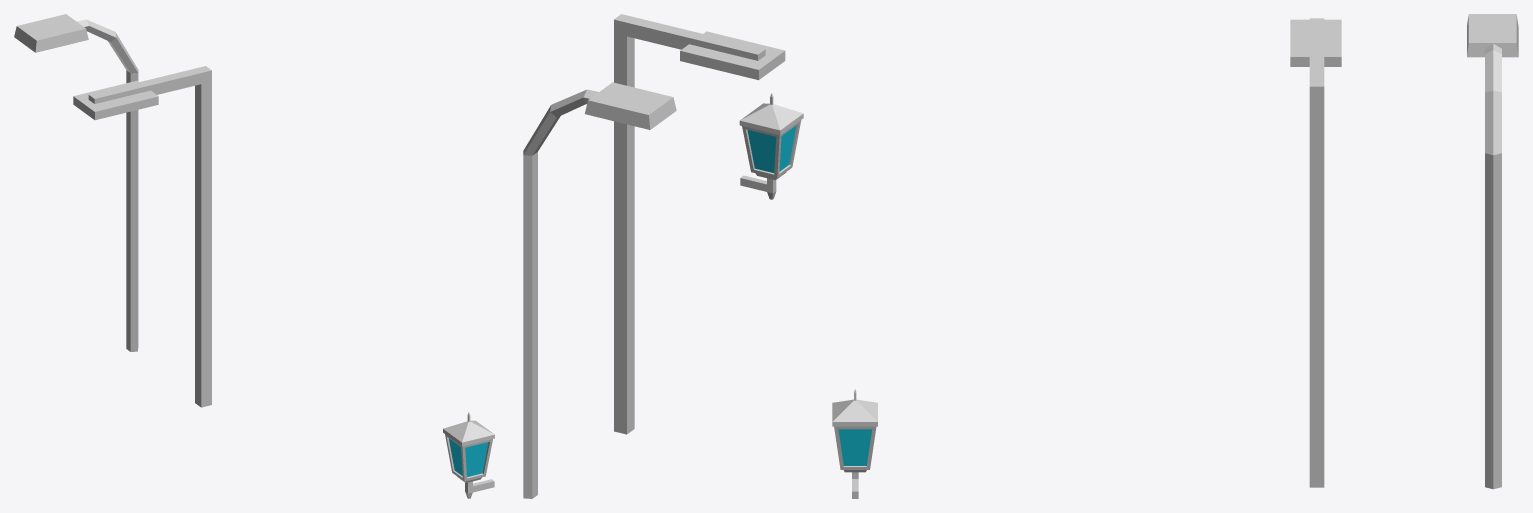
The model's file is Lights.FBX.
3 renders of one model, left to right at view 1: azimuth 30°, elevation 25°; view 2: azimuth 150°, elevation 25°; view 3: azimuth 270°, elevation 25°, orthographic. The views are drawn at different scales.
Parts seen in each view (by area): view 1: Box004, Cylinder001, Box007, Box002, Box005, Box008; view 2: Box004, Cylinder001, Box002, Box007, Box005, Box008; view 3: Cylinder001, Box004, Box002, Box007, Box005, Box008.
Boxes of the visible parts, x1,y1,x2,y2 form: Box004: (88, 66, 211, 407); Cylinder001: (77, 19, 138, 351); Box007: (443, 412, 494, 498); Box002: (14, 14, 88, 52); Box005: (73, 80, 158, 120); Box008: (449, 438, 488, 476); Box004: (614, 14, 765, 434); Cylinder001: (523, 89, 598, 498); Box002: (585, 82, 676, 129); Box007: (739, 93, 803, 199); Box005: (680, 31, 785, 80); Box008: (747, 125, 796, 172); Cylinder001: (1485, 43, 1501, 489); Box004: (1309, 18, 1324, 487); Box002: (1467, 14, 1518, 57); Box007: (832, 389, 877, 498); Box005: (1290, 19, 1341, 66); Box008: (838, 429, 871, 465).
Bounding box in the file's own units: 16.01 × 24.16 × 36.64.
